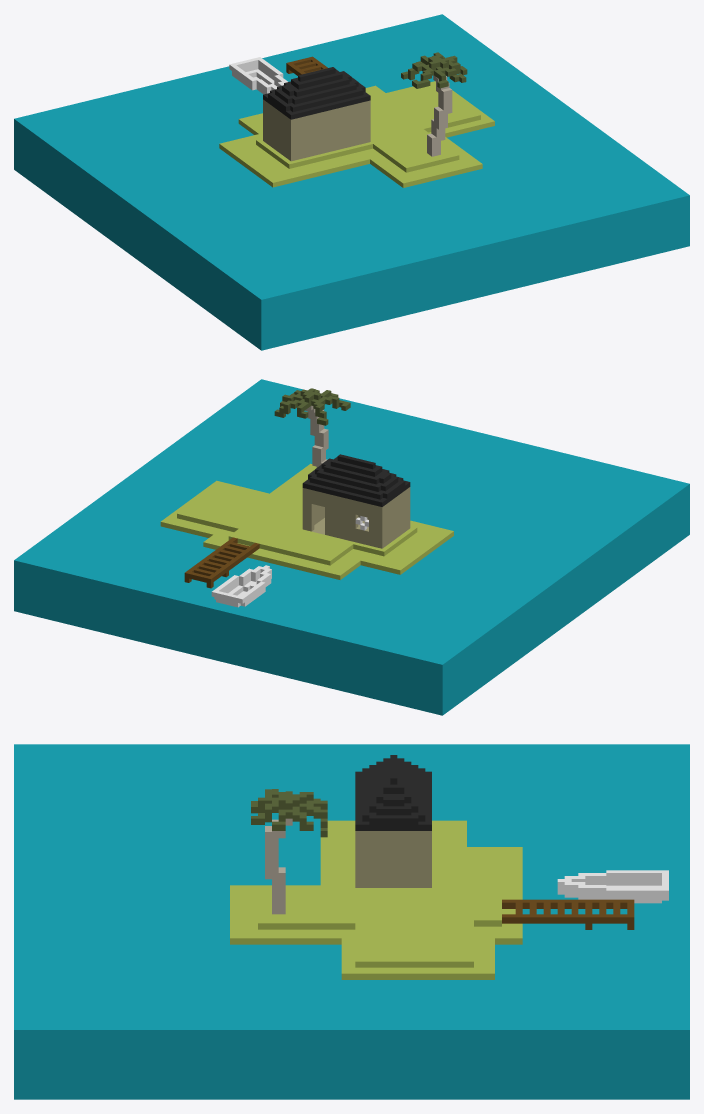
The model's file is island-hut.obj.
3 views of the same model, one above another, from view 1: azimuth 30°, elevation 25°; view 2: azimuth 150°, elevation 25°; view 3: azimuth 270°, elevation 25° (orthographic). The views are drawn at different scales.
Size of the model in its own units: 97 by 32 by 97.
1 material, 1 textured.
